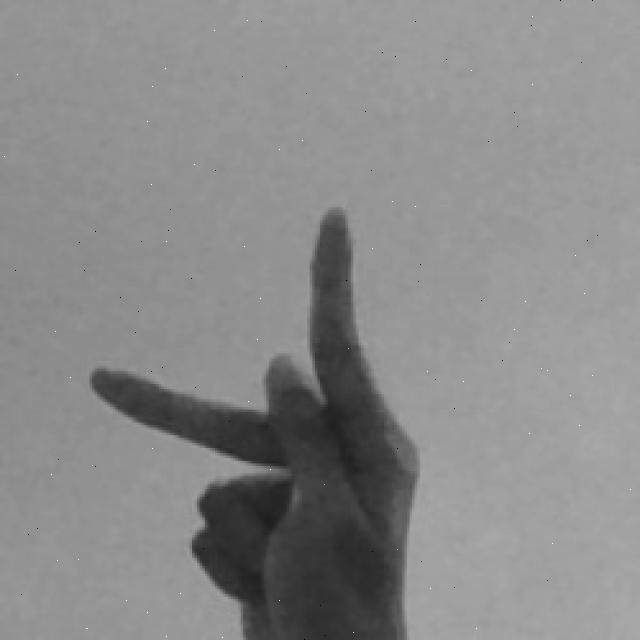K: (89, 204, 426, 640)
